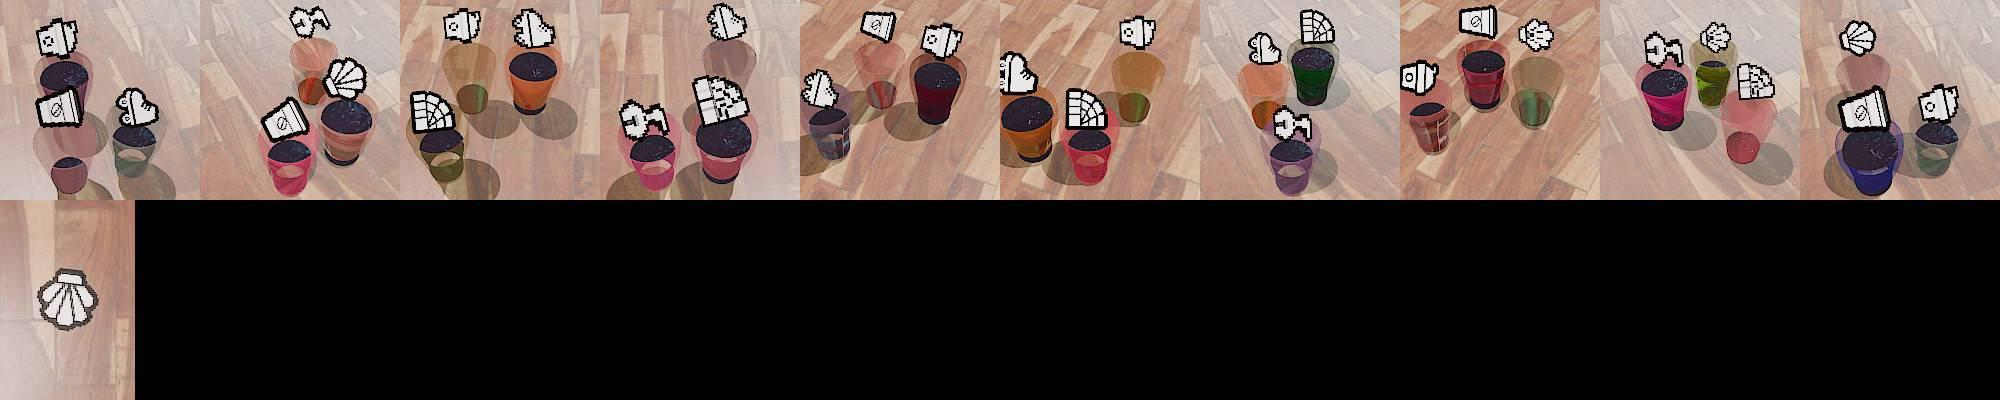icon: (34, 266, 101, 334), (691, 74, 750, 125), (1837, 87, 1892, 132), (259, 94, 311, 141), (619, 97, 672, 141), (321, 56, 369, 101), (34, 85, 83, 129), (409, 89, 457, 132), (996, 50, 1040, 94), (115, 87, 161, 129), (511, 8, 557, 50), (1065, 87, 1108, 130), (34, 18, 78, 60), (1917, 84, 1959, 124), (920, 20, 962, 60), (705, 3, 747, 42), (1272, 103, 1312, 143), (801, 69, 841, 108), (1735, 62, 1774, 101), (1644, 31, 1684, 69), (1402, 59, 1440, 97), (443, 8, 482, 45), (290, 5, 330, 41), (1458, 5, 1499, 39), (1298, 8, 1335, 45), (1839, 19, 1876, 56), (1518, 18, 1555, 54), (1119, 15, 1157, 50), (1247, 31, 1283, 66), (860, 10, 898, 43), (1700, 20, 1731, 54)
